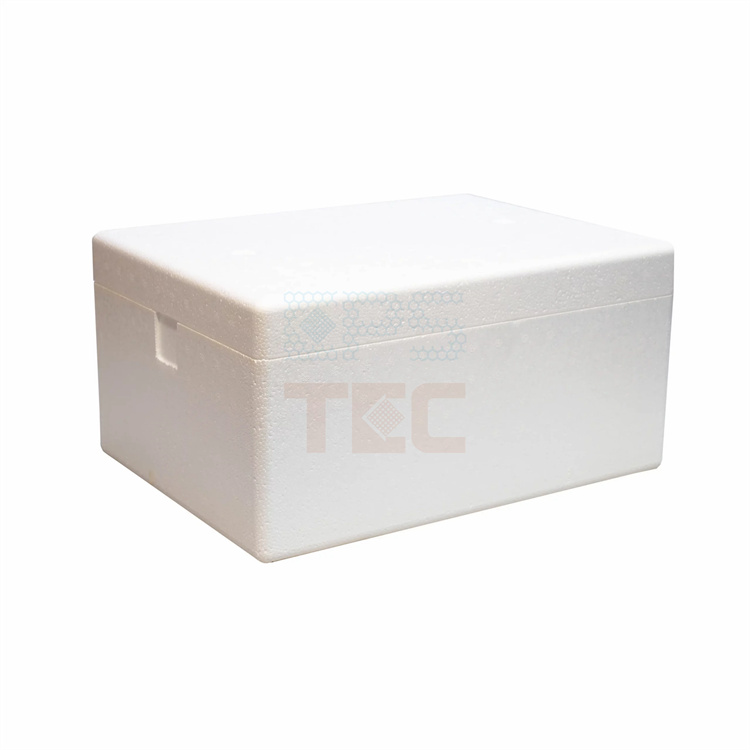泡沫箱: (92, 195, 673, 561)
